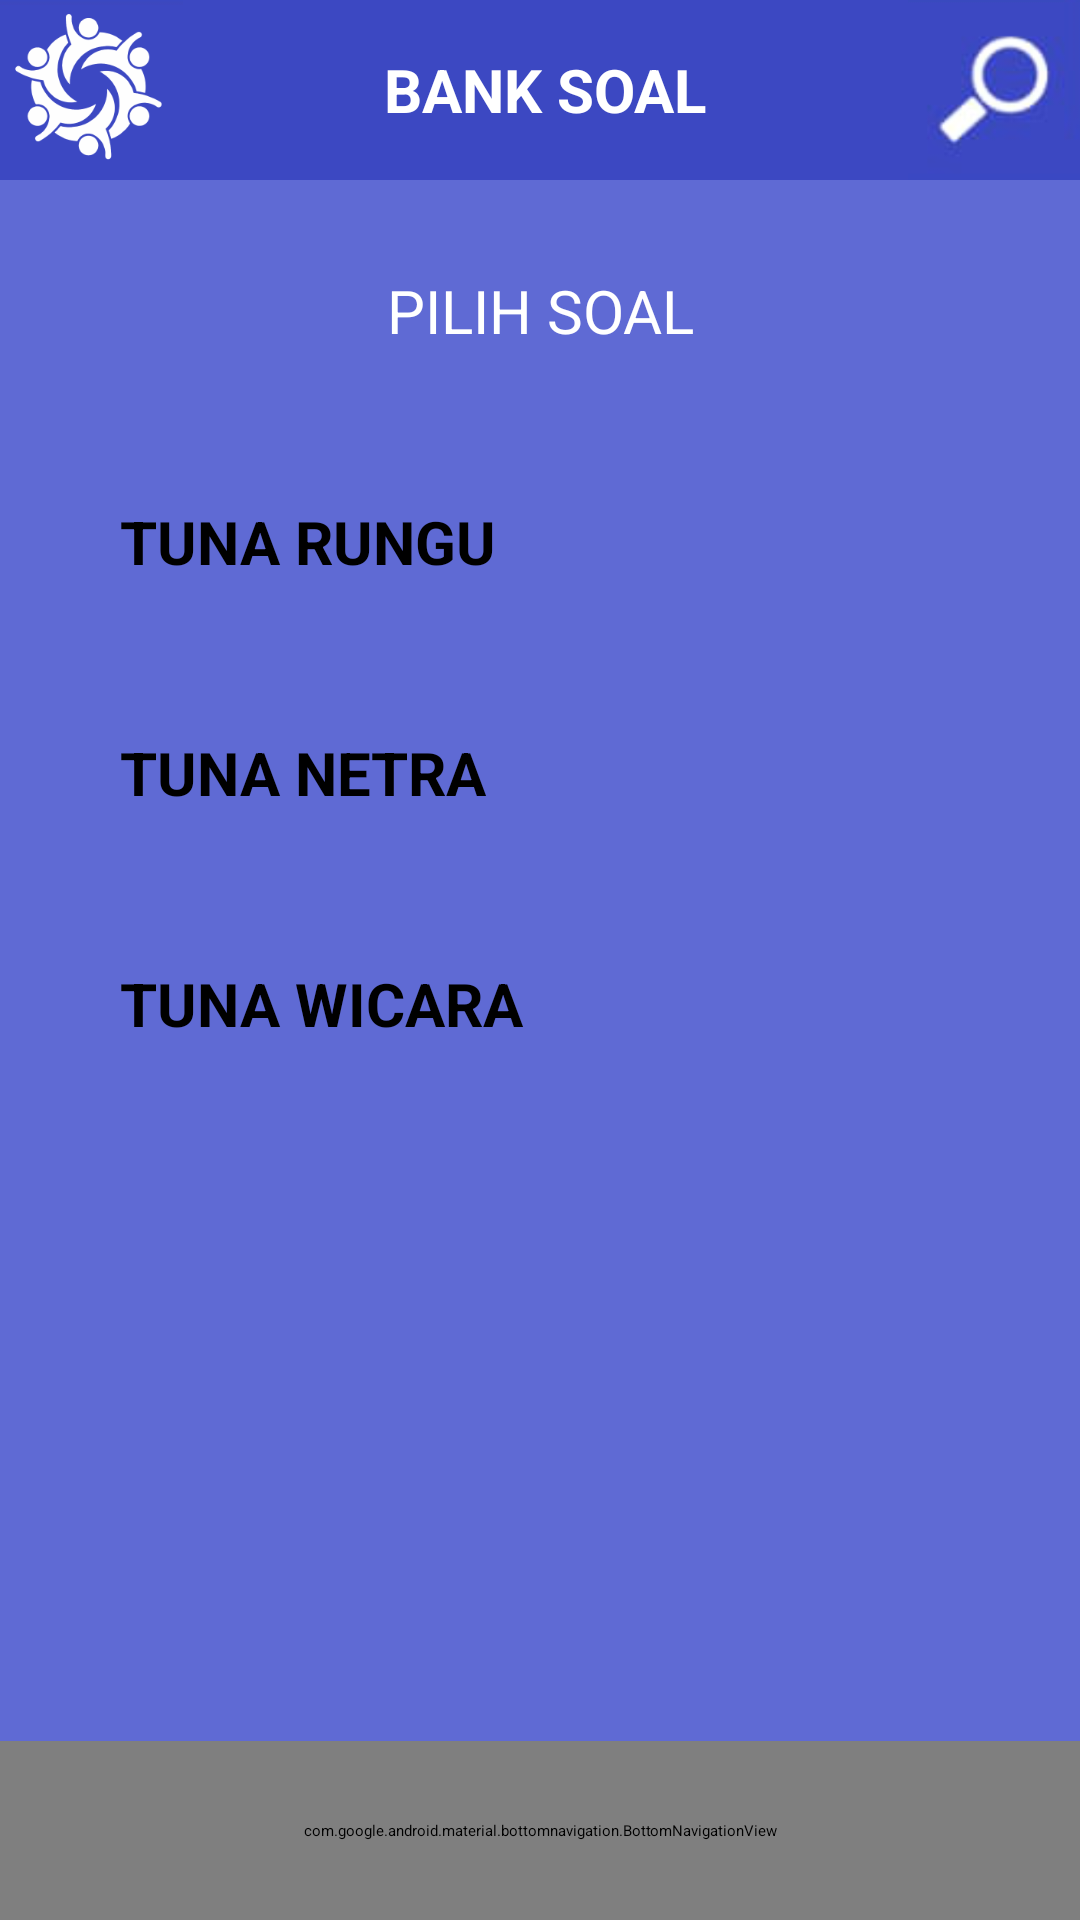

Icon click points for this 1080px×1920px phone screenshot, format point (x, y):
circle nav: point (88, 87)
search nav: point (994, 89)
